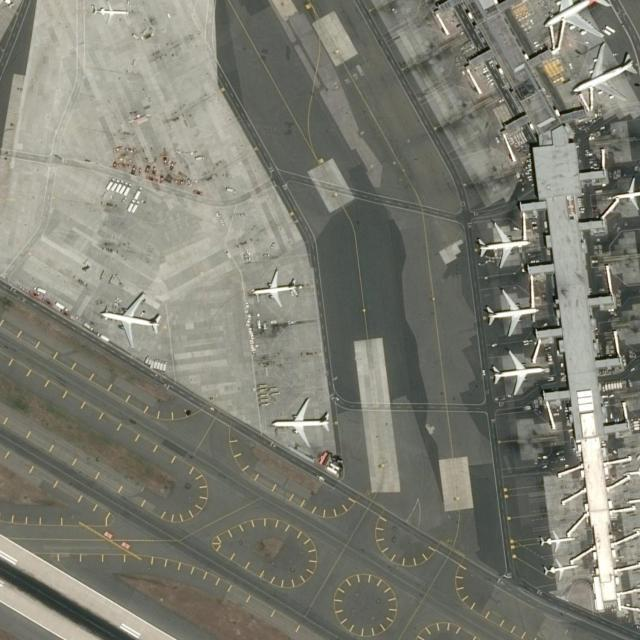Aircraft: (570, 38, 640, 104), (266, 393, 332, 449), (96, 290, 162, 345), (480, 286, 542, 338), (488, 345, 548, 397), (473, 218, 531, 269), (539, 0, 613, 39), (248, 267, 302, 309), (605, 173, 639, 213), (533, 525, 575, 553), (538, 553, 580, 581), (90, 0, 130, 25), (621, 452, 640, 486), (619, 487, 640, 514), (626, 514, 640, 542), (0, 0, 14, 8)
